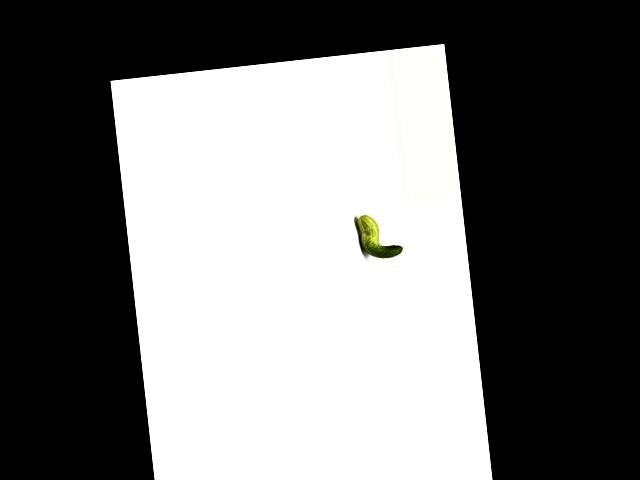cucumber: (356, 211, 403, 261)
